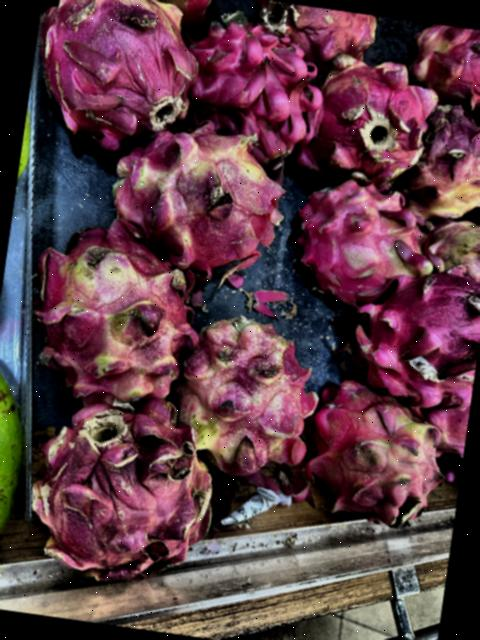buah-naga-belum-matang: (15, 204, 216, 411), (22, 392, 228, 584), (107, 122, 295, 282), (170, 306, 323, 474), (299, 368, 456, 525), (32, 0, 208, 138), (253, 0, 382, 68), (412, 100, 480, 215), (415, 208, 480, 279), (420, 209, 480, 284)
buah-naga-matang: (182, 15, 332, 167), (283, 168, 434, 301), (346, 259, 480, 398), (304, 50, 440, 181), (401, 21, 480, 110)
